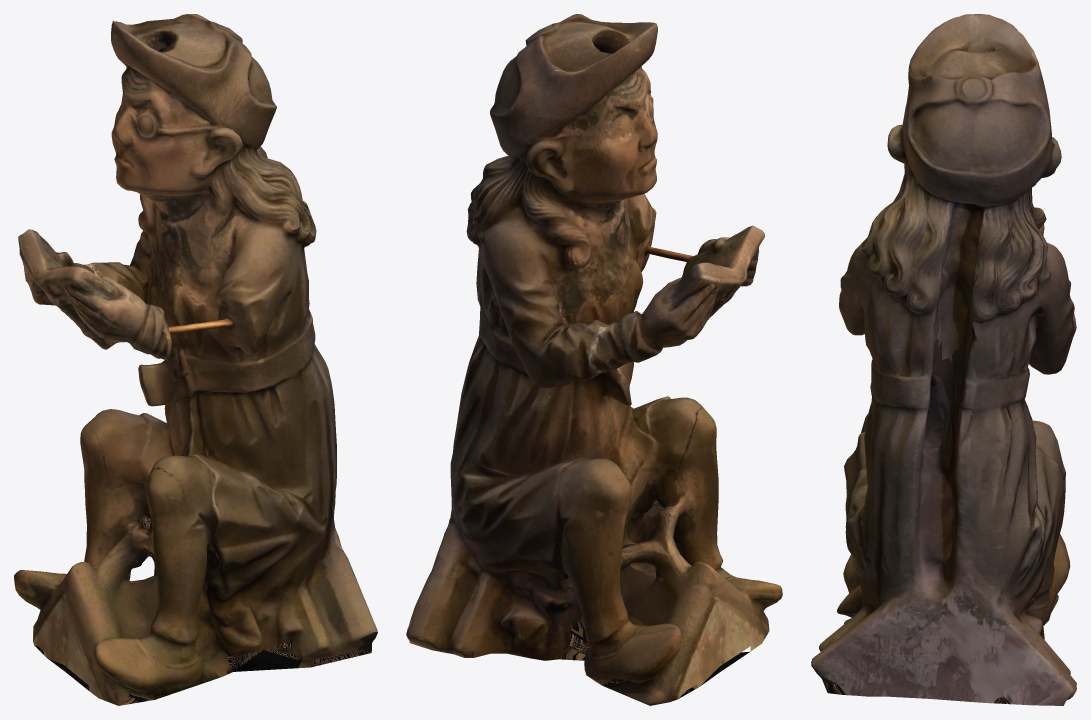
File: 01_man-with-book.gltf
3 views of the same model, side by side, from view 1: azimuth 30°, elevation 25°; view 2: azimuth 150°, elevation 25°; view 3: azimuth 270°, elevation 25° (orthographic). The views are drawn at different scales.
Visible parts, largest first — view 1: Mesh_0; view 2: Mesh_0; view 3: Mesh_0.
Part boxes in pixels (box(x1,y1,x2,y2)): Mesh_0: box(14, 14, 377, 705); Mesh_0: box(406, 14, 782, 705); Mesh_0: box(811, 14, 1076, 705).
Size of the model in its own units: 1.89 by 4 by 1.58.
Materials: 7 (7 with a texture image).
